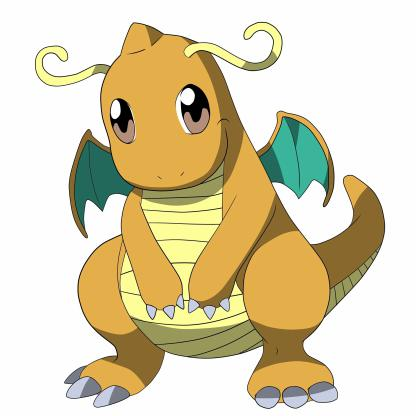Dragonite: (33, 21, 391, 416)
